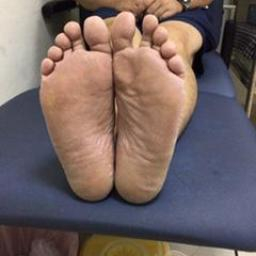Plantar View -Both Feet-: (34, 6, 195, 224)
